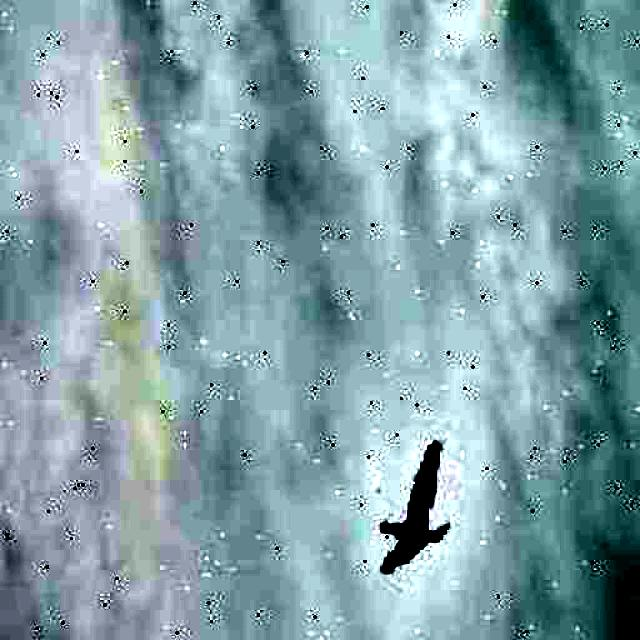airplane: (380, 440, 450, 576)
